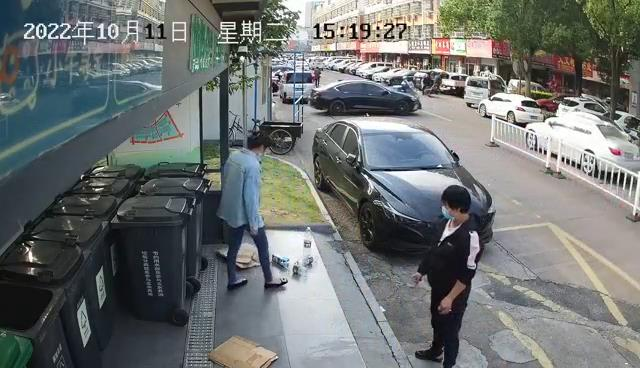person: (407, 183, 484, 368)
suliaozhipin: (300, 225, 314, 266)
worker: (214, 129, 289, 291)
zhizhipin: (206, 334, 279, 368), (214, 241, 262, 269), (271, 252, 290, 270)
